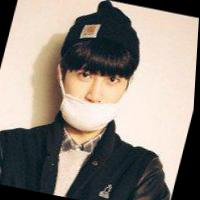WRONG: (54, 59, 133, 135)
